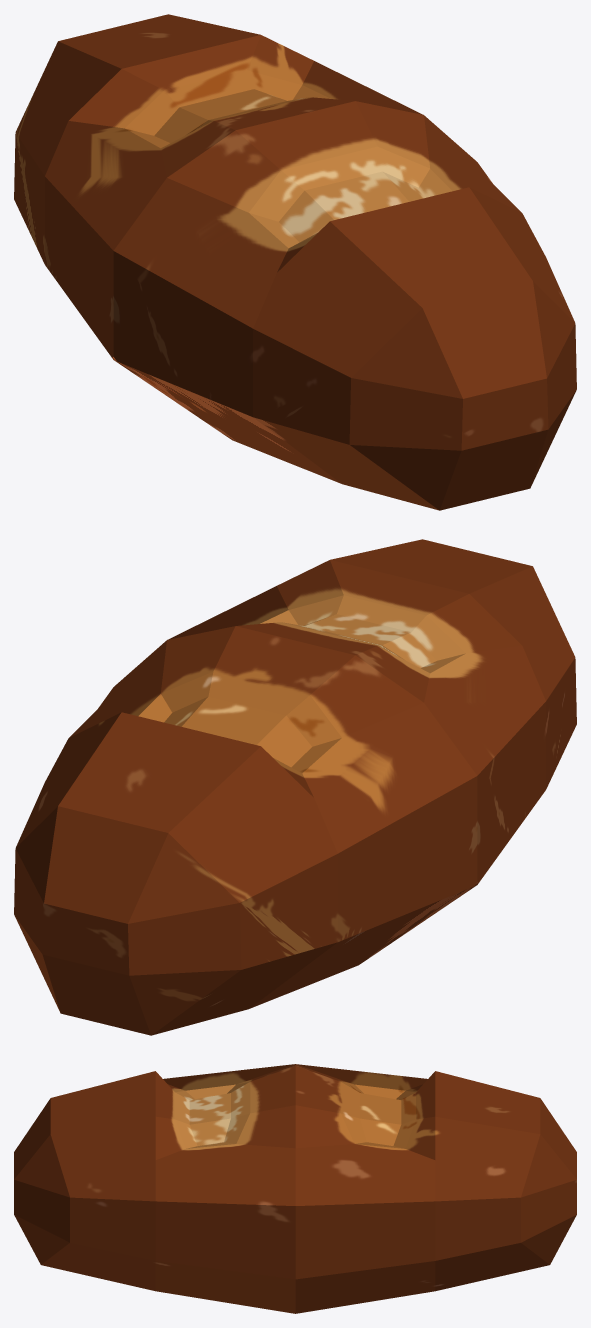
The model's file is bread.fbx.
3 views of the same model, one above another, from view 1: azimuth 30°, elevation 25°; view 2: azimuth 150°, elevation 25°; view 3: azimuth 270°, elevation 25° (orthographic). The views are drawn at different scales.
Parts seen in each view (by area): view 1: pCube1; view 2: pCube1; view 3: pCube1.
Boxes of the visible parts, x1,y1,x2,y2 form: pCube1: (14,14,576,510); pCube1: (14,539,576,1035); pCube1: (14,1064,576,1313).
Bounding box in the file's own units: 1.22 × 0.9873 × 2.43.
Materials: 1 (1 with a texture image).
